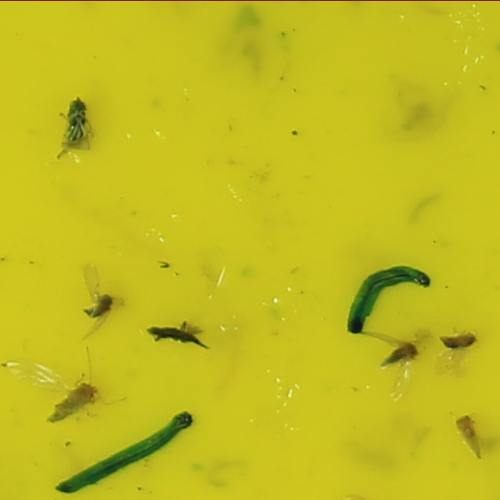psylla: (43, 382, 101, 424), (379, 337, 422, 369), (455, 413, 484, 457), (436, 325, 481, 352), (82, 292, 121, 322)
wasp: (51, 94, 92, 158)
